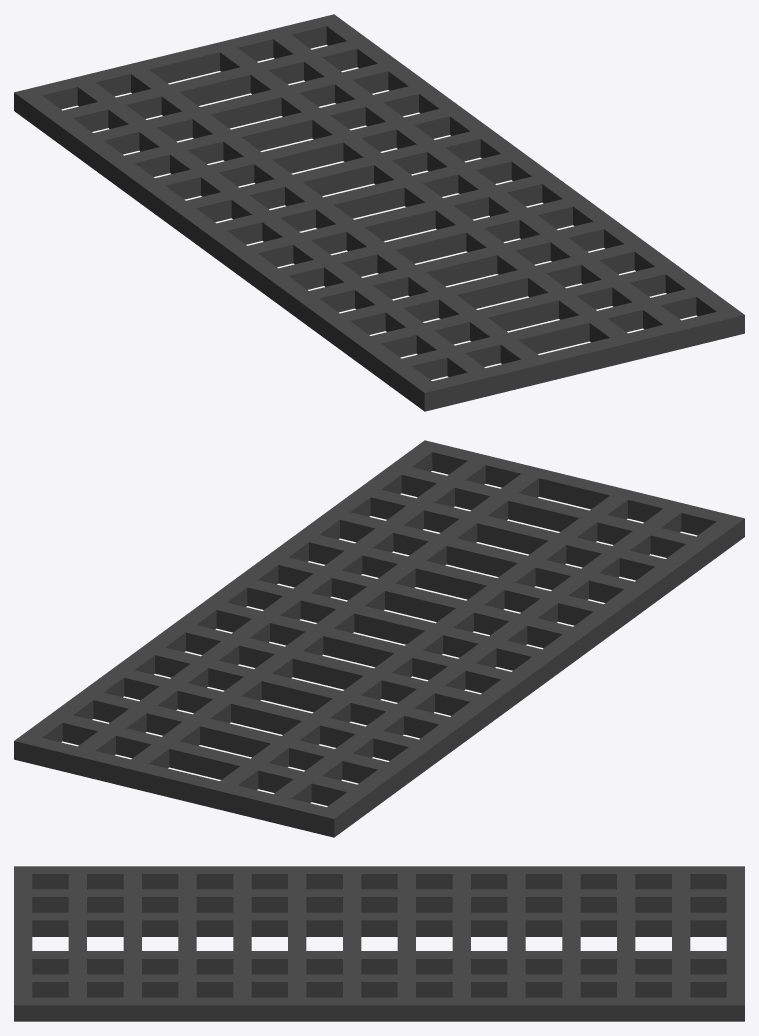
Rendered from Grill1.obj.
The picture shows the model from 3 angles, top to bottom: view 1: azimuth 30°, elevation 25°; view 2: azimuth 150°, elevation 25°; view 3: azimuth 270°, elevation 25°; orthographic projection. The views are drawn at different scales.
Visible parts, largest first — view 1: Grill1; view 2: Grill1; view 3: Grill1.
Boxes of the visible parts, x1,y1,x2,y2 form: Grill1: [14, 14, 744, 411]; Grill1: [14, 440, 744, 837]; Grill1: [14, 866, 744, 1021].
Size of the model in its own units: 18 by 1 by 40.
1 material, 1 textured.
